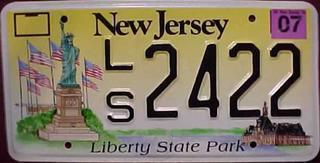placa de veiculo: (2, 4, 313, 159)
